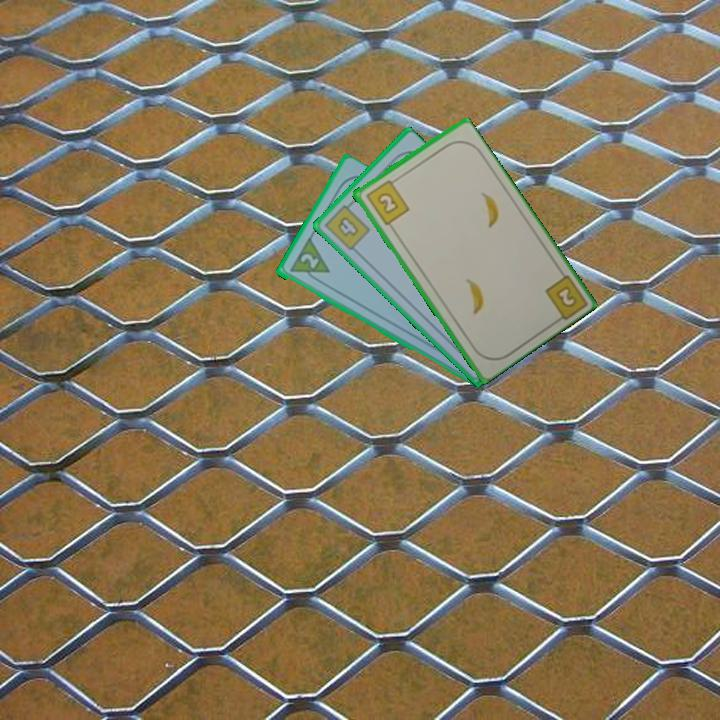2b: (362, 175, 412, 228), (552, 282, 580, 310)
2p: (286, 236, 332, 287)
4b: (321, 198, 373, 253)
